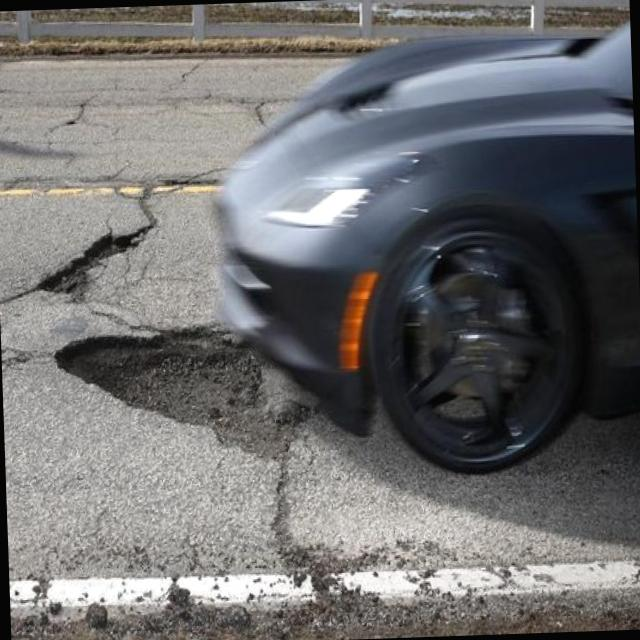bad-road: (50, 323, 260, 442), (35, 220, 161, 304)
